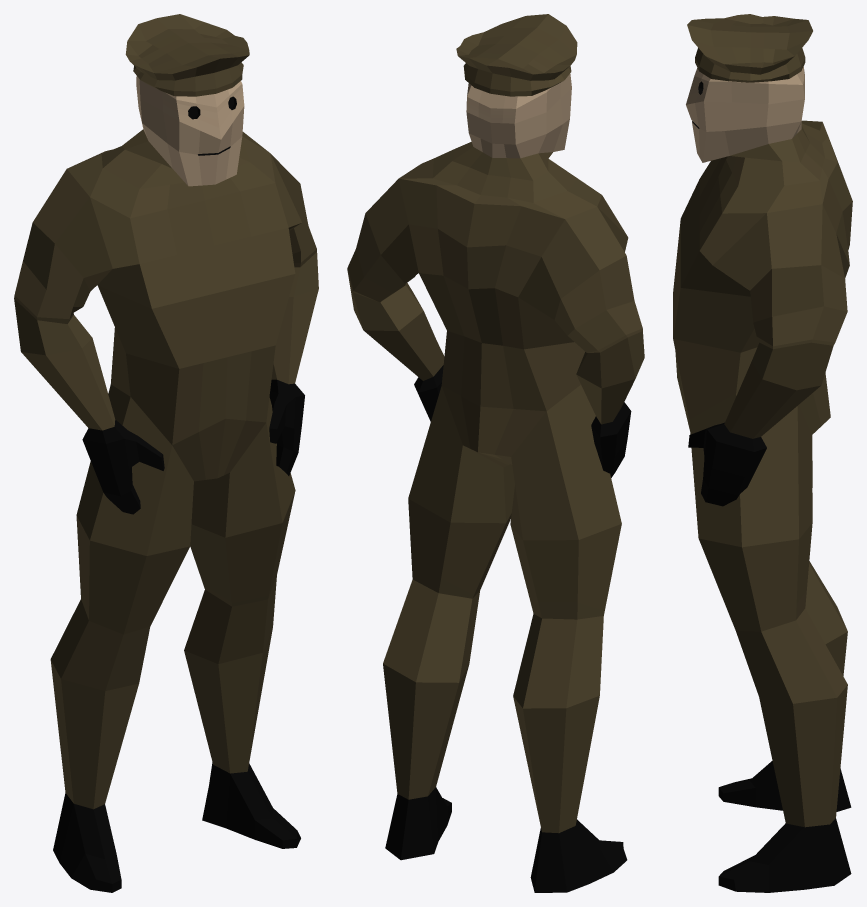
Rendered from Man.fbx.
3 renders of one model, left to right at view 1: azimuth 30°, elevation 25°; view 2: azimuth 150°, elevation 25°; view 3: azimuth 270°, elevation 25°, orthographic. The views are drawn at different scales.
Parts seen in each view (by area): view 1: Cube, Circle; view 2: Cube, Circle; view 3: Cube, Circle.
Boxes of the visible parts, bbox=[...] form: Cube: bbox=[14, 76, 318, 892]; Circle: bbox=[125, 14, 249, 96]; Cube: bbox=[347, 73, 644, 892]; Circle: bbox=[456, 14, 577, 96]; Cube: bbox=[673, 66, 852, 892]; Circle: bbox=[687, 14, 812, 82].
Bounding box in the file's own units: 88.48 × 241 × 48.18.
